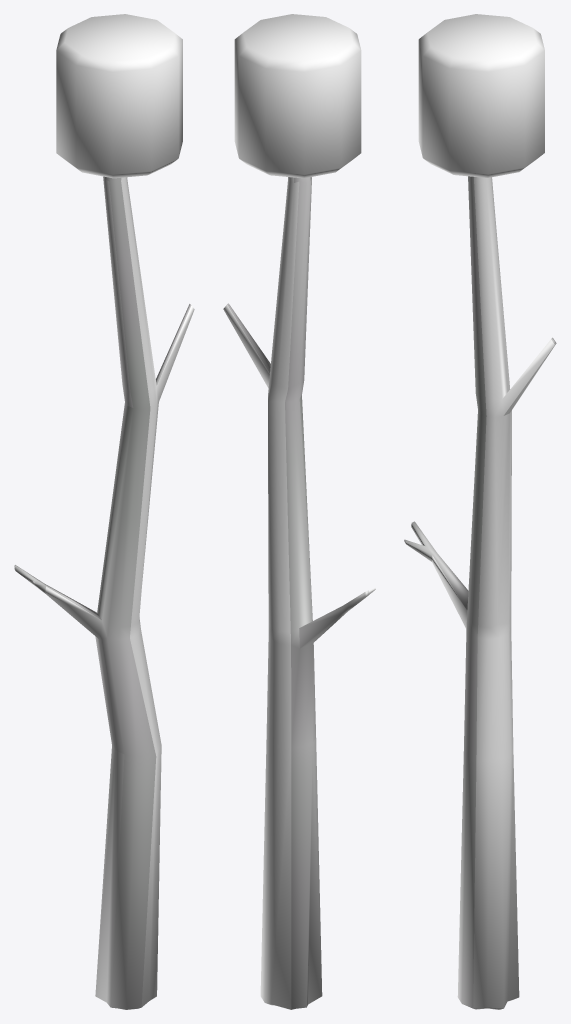
The model's file is SM_MarshmallowStick_Stage_01.obj.
3 renders of one model, left to right at view 1: azimuth 30°, elevation 25°; view 2: azimuth 150°, elevation 25°; view 3: azimuth 330°, elevation 25°, orthographic.
Parts seen in each view (by area): view 1: SM_MarshmallowStick_Stage_01_Mat_SwatchOverlay_PolygonTown_01_Wo, SM_MarshmallowStick_Stage_01_Mat_SwatchOverlay_PolygonTown_01_Li; view 2: SM_MarshmallowStick_Stage_01_Mat_SwatchOverlay_PolygonTown_01_Wo, SM_MarshmallowStick_Stage_01_Mat_SwatchOverlay_PolygonTown_01_Li; view 3: SM_MarshmallowStick_Stage_01_Mat_SwatchOverlay_PolygonTown_01_Wo, SM_MarshmallowStick_Stage_01_Mat_SwatchOverlay_PolygonTown_01_Li.
Boxes of the visible parts, x1,y1,x2,y2 form: SM_MarshmallowStick_Stage_01_Mat_SwatchOverlay_PolygonTown_01_Wo: (14,176,194,1009); SM_MarshmallowStick_Stage_01_Mat_SwatchOverlay_PolygonTown_01_Li: (56,14,182,178); SM_MarshmallowStick_Stage_01_Mat_SwatchOverlay_PolygonTown_01_Wo: (223,177,375,1009); SM_MarshmallowStick_Stage_01_Mat_SwatchOverlay_PolygonTown_01_Li: (234,14,361,178); SM_MarshmallowStick_Stage_01_Mat_SwatchOverlay_PolygonTown_01_Wo: (404,176,556,1009); SM_MarshmallowStick_Stage_01_Mat_SwatchOverlay_PolygonTown_01_Li: (418,14,544,177).
Size of the model in its own units: 0.242 by 1.38 by 0.1679.
Materials: 2 (1 with a texture image).
